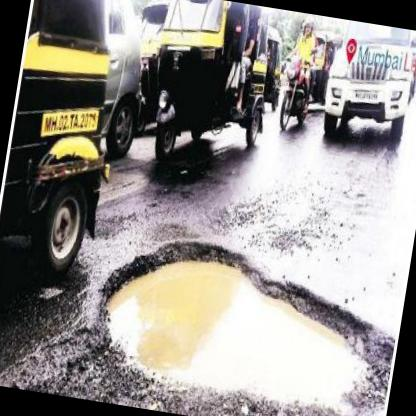pothole: (81, 223, 406, 416)
